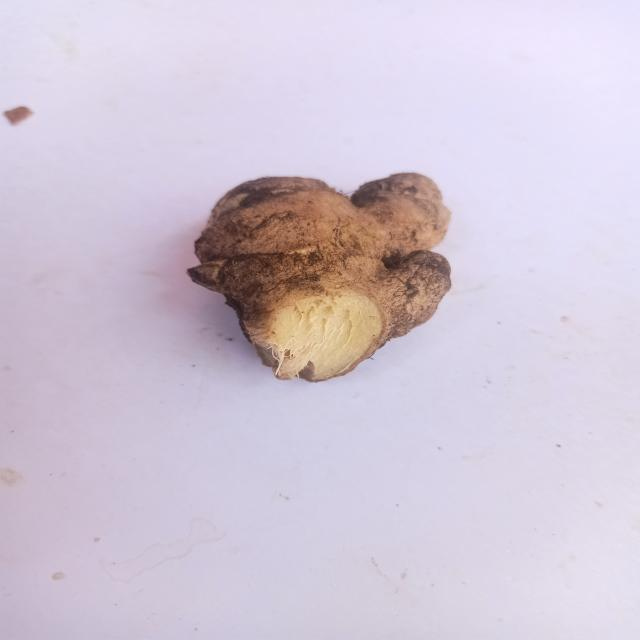Ginger: (184, 154, 480, 394)
